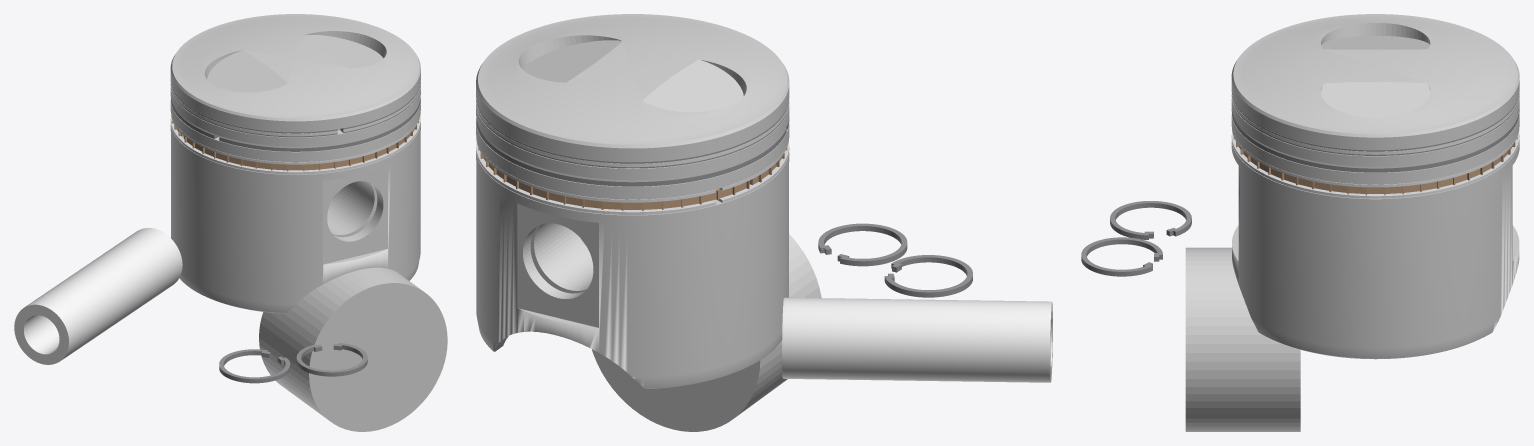
File: piston.glb
3 renders of one model, left to right at view 1: azimuth 30°, elevation 25°; view 2: azimuth 150°, elevation 25°; view 3: azimuth 270°, elevation 25°, orthographic. The views are drawn at different scales.
Visible parts, largest first — view 1: piston__skirt, piston__crown, piston__gudgeon_pin, piston__ring_oil, piston__circlips, piston__ring_second, piston__ring_top; view 2: piston__skirt, piston__crown, piston__gudgeon_pin, piston__ring_oil, piston__circlips, piston__ring_top, piston__ring_second; view 3: piston__skirt, piston__crown, piston__ring_oil, piston__circlips, piston__ring_second, piston__ring_top.
Boxes of the visible parts, x1,y1,x2,y2 form: piston__skirt: (171,133,447,431); piston__crown: (170,14,420,181); piston__gudgeon_pin: (14,228,182,364); piston__ring_oil: (170,113,420,174); piston__circlips: (219,343,367,383); piston__ring_second: (171,98,420,151); piston__ring_top: (170,81,420,137); piston__skirt: (476,163,821,431); piston__crown: (476,14,789,224); piston__gudgeon_pin: (782,297,1052,382); piston__ring_oil: (476,137,789,214); piston__circlips: (818,223,972,297); piston__ring_top: (476,98,789,168); piston__ring_second: (476,118,789,186); piston__skirt: (1185,166,1519,431); piston__crown: (1231,14,1519,207); piston__ring_oil: (1231,129,1519,198); piston__circlips: (1081,201,1191,276); piston__ring_second: (1231,109,1519,172); piston__ring_top: (1231,92,1519,155).
Bounding box in the file's own units: 9.59 × 6.86 × 7.61.
